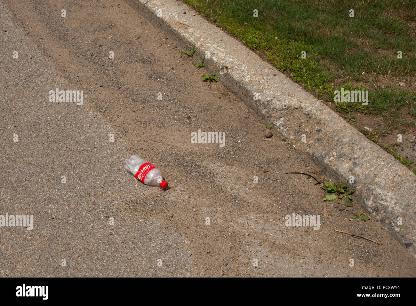Plastic Bottle: (124, 146, 174, 192)
